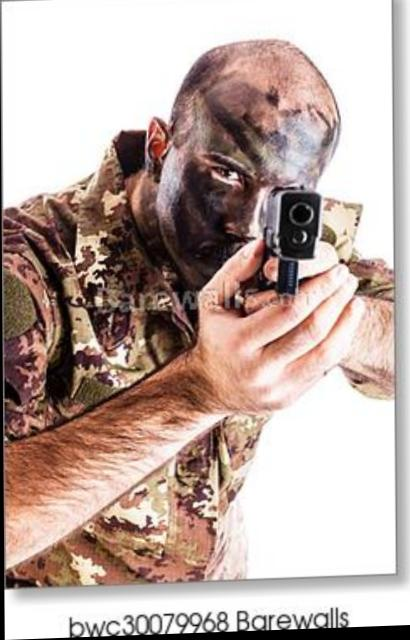other: (0, 32, 401, 583)
